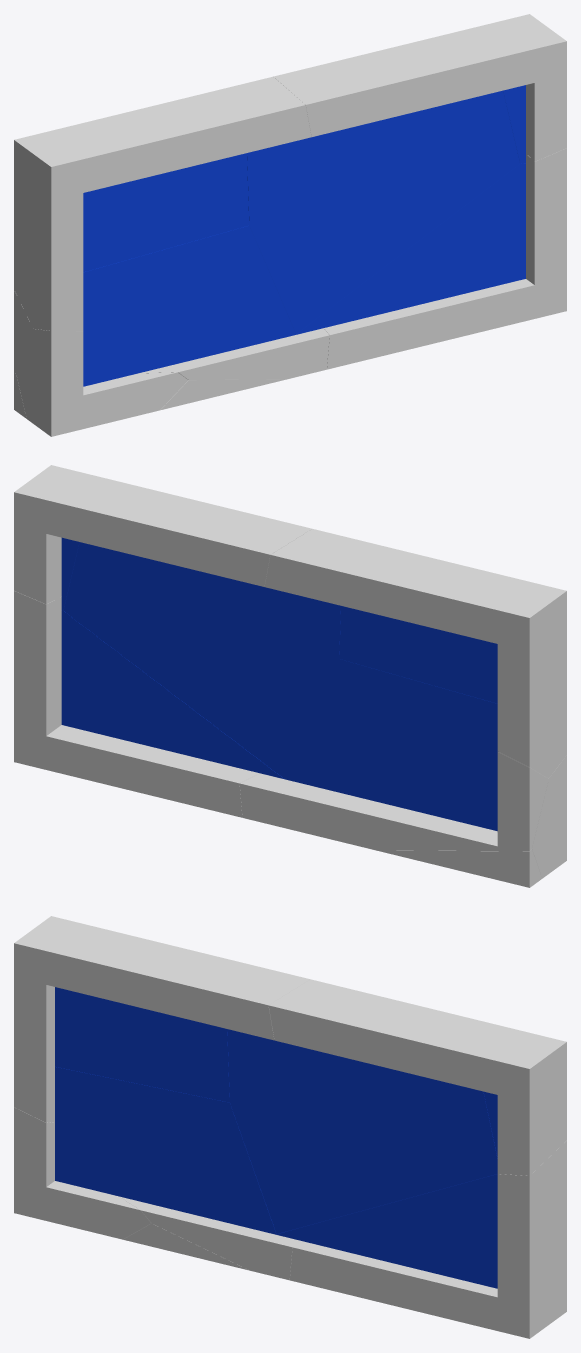
Rendered from Window 8x4x1 Fractured.fbx.
3 views of the same model, one above another, from view 1: azimuth 30°, elevation 25°; view 2: azimuth 150°, elevation 25°; view 3: azimuth 330°, elevation 25° (orthographic).
Visible parts, largest first — view 1: Glass_cell, Window Concrete 8x4x1_cell.004, Glass_cell.002, Window Concrete 8x4x1_cell.005, Window Concrete 8x4x1_cell.001, Glass_cell.003, Glass_cell.001, Window Concrete 8x4x1_cell.002, Window Concrete 8x4x1_cell, Window Concrete 8x4x1_cell.003, Glass_cell.004; view 2: Glass_cell, Window Concrete 8x4x1_cell.004, Glass_cell.002, Window Concrete 8x4x1_cell.005, Window Concrete 8x4x1_cell.001, Window Concrete 8x4x1_cell, Glass_cell.003, Glass_cell.001, Window Concrete 8x4x1_cell.003, Window Concrete 8x4x1_cell.002, Glass_cell.004; view 3: Glass_cell, Window Concrete 8x4x1_cell.005, Window Concrete 8x4x1_cell.004, Glass_cell.002, Window Concrete 8x4x1_cell.001, Glass_cell.001, Glass_cell.003, Window Concrete 8x4x1_cell.002, Window Concrete 8x4x1_cell, Window Concrete 8x4x1_cell.003.
Part boxes in pixels (x1=…): Glass_cell: x1=247, y1=90, x2=519, y2=333; Window Concrete 8x4x1_cell.004: x1=14, y1=76, x2=311, y2=330; Glass_cell.002: x1=83, y1=225, x2=295, y2=386; Window Concrete 8x4x1_cell.005: x1=273, y1=14, x2=566, y2=161; Window Concrete 8x4x1_cell.001: x1=324, y1=148, x2=566, y2=369; Glass_cell.003: x1=296, y1=163, x2=525, y2=334; Glass_cell.001: x1=83, y1=153, x2=249, y2=272; Window Concrete 8x4x1_cell.002: x1=16, y1=329, x2=188, y2=436; Window Concrete 8x4x1_cell: x1=14, y1=290, x2=329, y2=379; Window Concrete 8x4x1_cell.003: x1=14, y1=373, x2=286, y2=418; Glass_cell.004: x1=503, y1=85, x2=525, y2=163; Glass_cell: x1=63, y1=542, x2=340, y2=779; Window Concrete 8x4x1_cell.004: x1=264, y1=529, x2=566, y2=778; Glass_cell.002: x1=287, y1=659, x2=497, y2=831; Window Concrete 8x4x1_cell.005: x1=14, y1=465, x2=311, y2=604; Window Concrete 8x4x1_cell.001: x1=14, y1=591, x2=259, y2=817; Window Concrete 8x4x1_cell: x1=239, y1=752, x2=548, y2=851; Glass_cell.003: x1=61, y1=611, x2=284, y2=779; Glass_cell.001: x1=339, y1=606, x2=497, y2=703; Window Concrete 8x4x1_cell.003: x1=376, y1=849, x2=542, y2=887; Window Concrete 8x4x1_cell.002: x1=495, y1=755, x2=566, y2=878; Glass_cell.004: x1=61, y1=537, x2=79, y2=610; Glass_cell: x1=227, y1=1029, x2=497, y2=1233; Window Concrete 8x4x1_cell.005: x1=268, y1=979, x2=566, y2=1175; Window Concrete 8x4x1_cell.004: x1=14, y1=916, x2=309, y2=1122; Glass_cell.002: x1=55, y1=1067, x2=276, y2=1234; Window Concrete 8x4x1_cell.001: x1=290, y1=1140, x2=566, y2=1338; Glass_cell.001: x1=55, y1=987, x2=229, y2=1102; Glass_cell.003: x1=276, y1=1174, x2=497, y2=1288; Window Concrete 8x4x1_cell.002: x1=14, y1=1107, x2=150, y2=1239; Window Concrete 8x4x1_cell: x1=119, y1=1196, x2=303, y2=1280; Window Concrete 8x4x1_cell.003: x1=123, y1=1223, x2=249, y2=1270.
Size of the model in its own units: 8 by 4 by 1.
